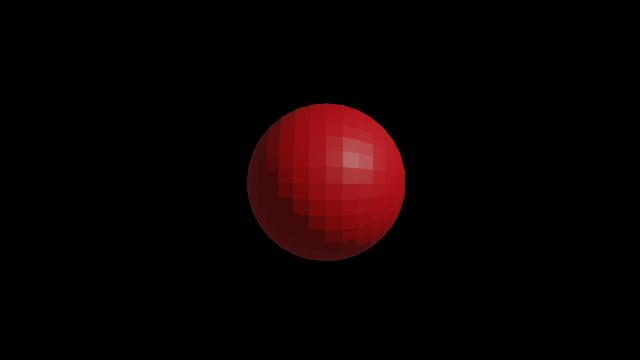Sphere: (241, 95, 411, 265)
